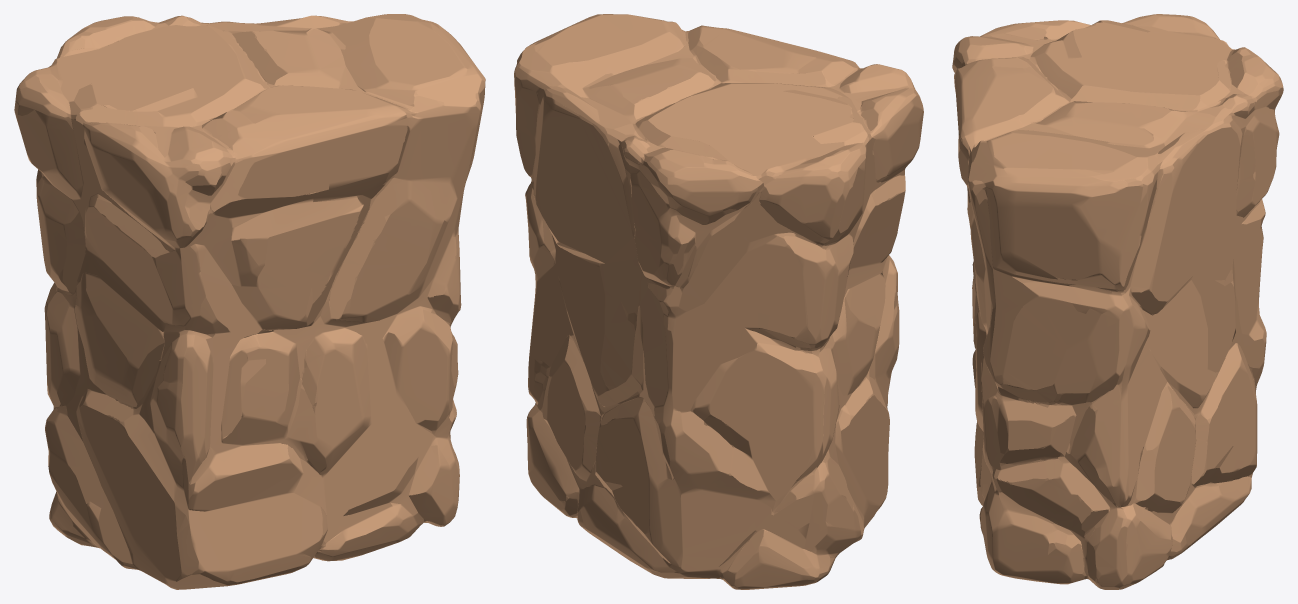
3 renders of one model, left to right at view 1: azimuth 30°, elevation 25°; view 2: azimuth 150°, elevation 25°; view 3: azimuth 270°, elevation 25°, orthographic. The views are drawn at different scales.
Visible parts, largest first — view 1: Mesh_117_LOD0; view 2: Mesh_117_LOD0; view 3: Mesh_117_LOD0.
Part boxes in pixels (left/top/right/bottom): Mesh_117_LOD0: left=14, top=14, right=485, bottom=589; Mesh_117_LOD0: left=514, top=14, right=923, bottom=589; Mesh_117_LOD0: left=952, top=14, right=1283, bottom=589.
Size of what is drawn, in the model's own units: 2764 by 3172 by 2194.
